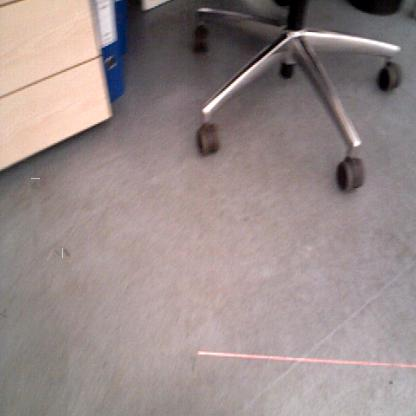mark: (189, 356, 197, 378), (30, 178, 40, 189), (62, 248, 71, 258), (0, 310, 8, 320), (53, 246, 61, 256), (386, 380, 392, 387)
